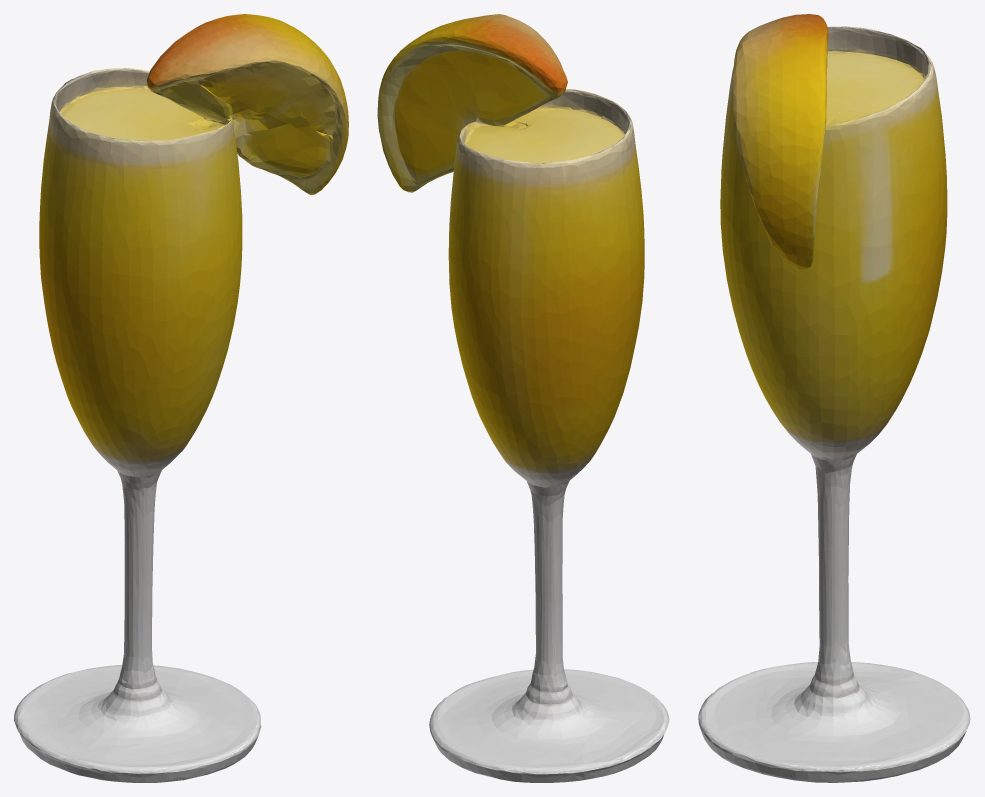
File: p_mimosa.glb
3 views of the same model, side by side, from view 1: azimuth 30°, elevation 25°; view 2: azimuth 150°, elevation 25°; view 3: azimuth 270°, elevation 25° (orthographic). The views are drawn at different scales.
Parts seen in each view (by area): view 1: geometry_0; view 2: geometry_0; view 3: geometry_0.
Boxes of the visible parts, x1=… form: geometry_0: x1=14, y1=14, x2=348, y2=782; geometry_0: x1=377, y1=14, x2=669, y2=782; geometry_0: x1=698, y1=14, x2=970, y2=782.
Bounding box in the file's own units: 0.4341 × 0.9985 × 0.3301.
1 material, 1 textured.
